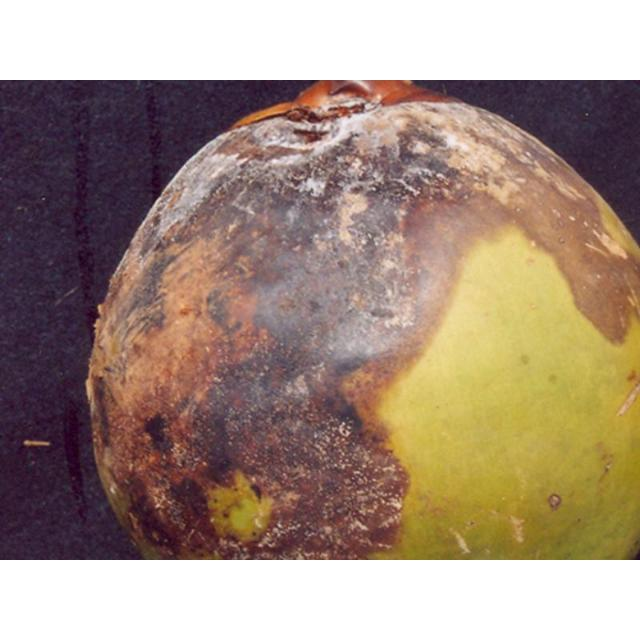damaged: (86, 80, 639, 559)
